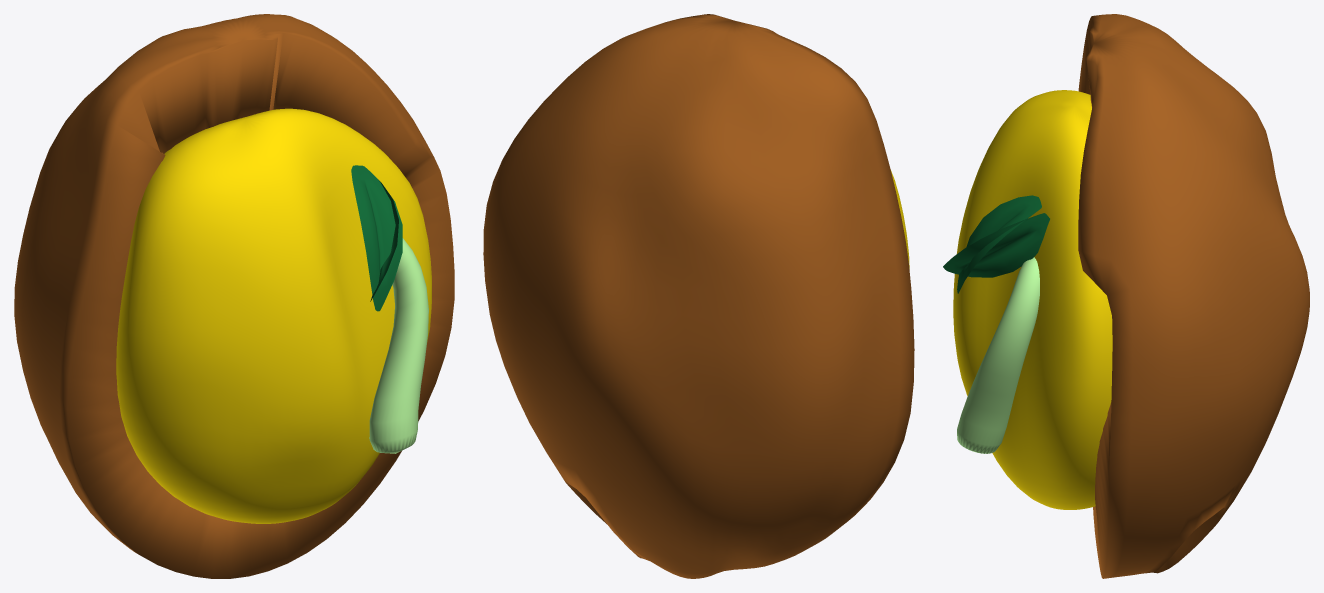
The model's file is Seed_Lipid_Reserve.glb.
The picture shows the model from 3 angles, left to right: view 1: azimuth 30°, elevation 25°; view 2: azimuth 150°, elevation 25°; view 3: azimuth 270°, elevation 25°; orthographic projection. The views are drawn at different scales.
Parts seen in each view (by area): view 1: Sphere.003, Sphere.004, Cylinder.023, Plane.007; view 2: Sphere.004; view 3: Sphere.004, Sphere.003, Cylinder.023, Plane.007.
Boxes of the visible parts, x1,y1,x2,y2 form: Sphere.003: (116,108,431,523); Sphere.004: (14,14,454,578); Cylinder.023: (369,238,428,453); Plane.007: (351,165,402,311); Sphere.004: (483,14,914,578); Sphere.004: (1078,14,1309,578); Sphere.003: (953,90,1112,509); Cylinder.023: (957,257,1039,453); Plane.007: (943,195,1049,293).
Bounding box in the file's own units: 1.55 × 2.01 × 1.3.
